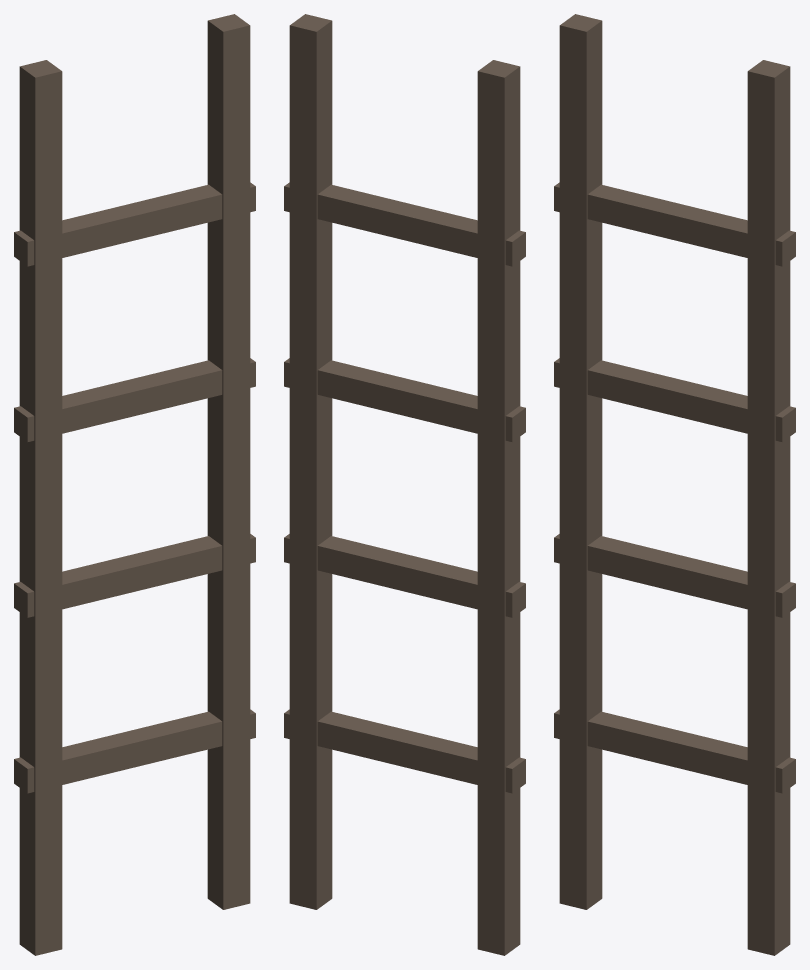
File: hd2d_market_prop_ladder.glb
3 renders of one model, left to right at view 1: azimuth 30°, elevation 25°; view 2: azimuth 150°, elevation 25°; view 3: azimuth 330°, elevation 25°, orthographic.
Visible parts, largest first — view 1: LadderLeftRail, LadderRightRail, LadderRungC, LadderRungD, LadderRungA, LadderRungB; view 2: LadderLeftRail, LadderRightRail, LadderRungC, LadderRungD, LadderRungA, LadderRungB; view 3: LadderRightRail, LadderLeftRail, LadderRungC, LadderRungD, LadderRungA, LadderRungB.
Part boxes in pixels (x1,y1,x2,y2): LadderLeftRail: [19, 60, 62, 955]; LadderRightRail: [207, 14, 250, 909]; LadderRungC: [14, 358, 255, 442]; LadderRungD: [14, 182, 255, 266]; LadderRungA: [14, 709, 255, 793]; LadderRungB: [14, 534, 255, 617]; LadderLeftRail: [477, 60, 520, 955]; LadderRightRail: [289, 14, 332, 909]; LadderRungC: [284, 358, 525, 442]; LadderRungD: [284, 182, 525, 266]; LadderRungA: [284, 709, 525, 793]; LadderRungB: [284, 534, 525, 617]; LadderRightRail: [747, 60, 790, 955]; LadderLeftRail: [559, 14, 602, 909]; LadderRungC: [554, 358, 795, 442]; LadderRungD: [554, 182, 795, 266]; LadderRungA: [554, 709, 795, 793]; LadderRungB: [554, 534, 795, 617].
Bounding box in the file's own units: 0.68 × 2.5 × 0.08.
